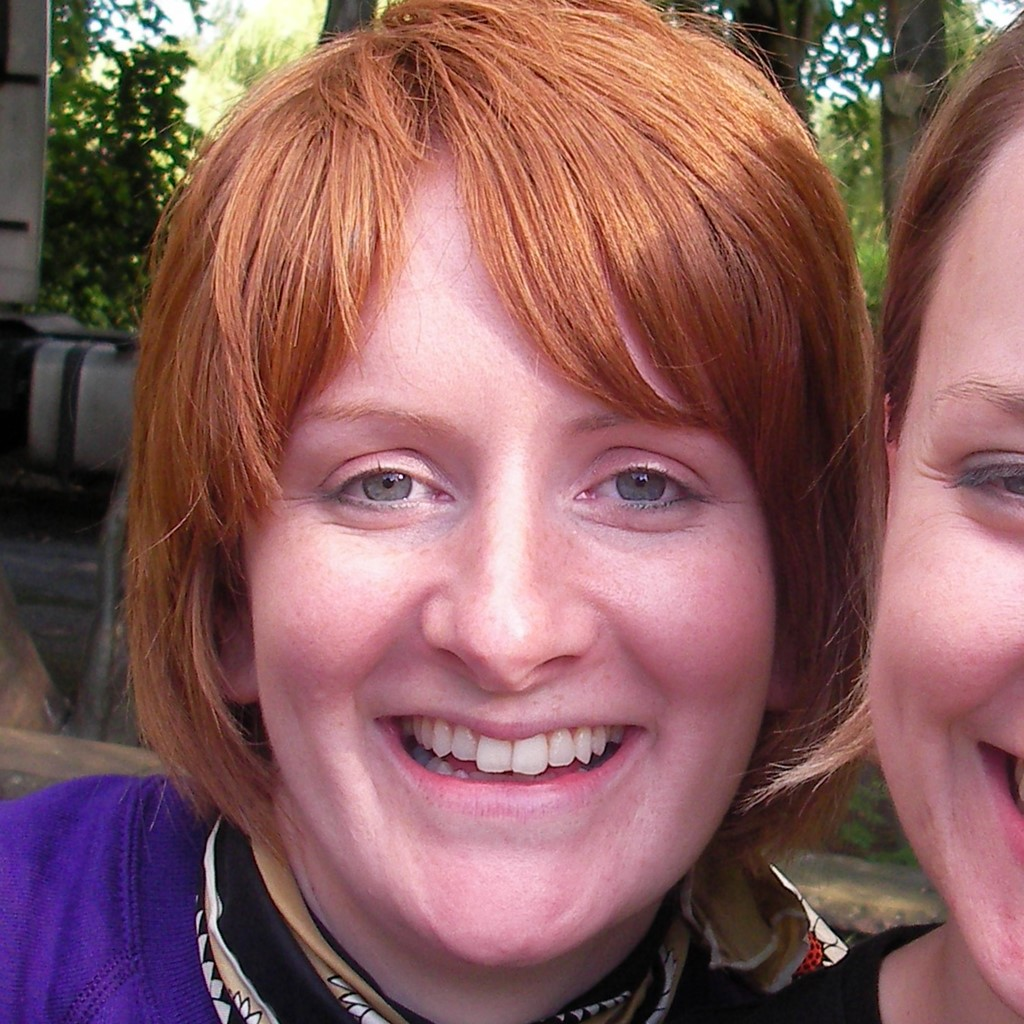sin_mascara: (212, 147, 789, 983)
